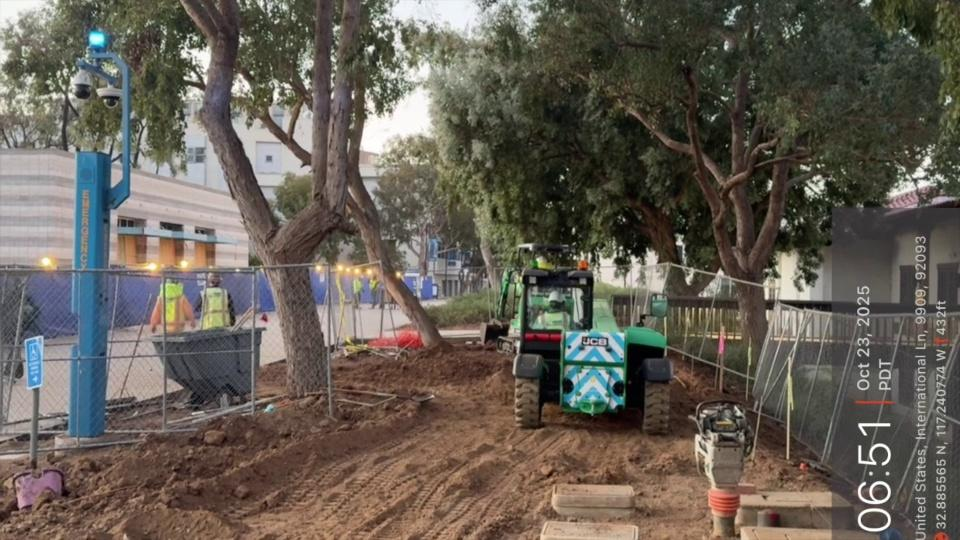Exacavator: (494, 242, 674, 435)
